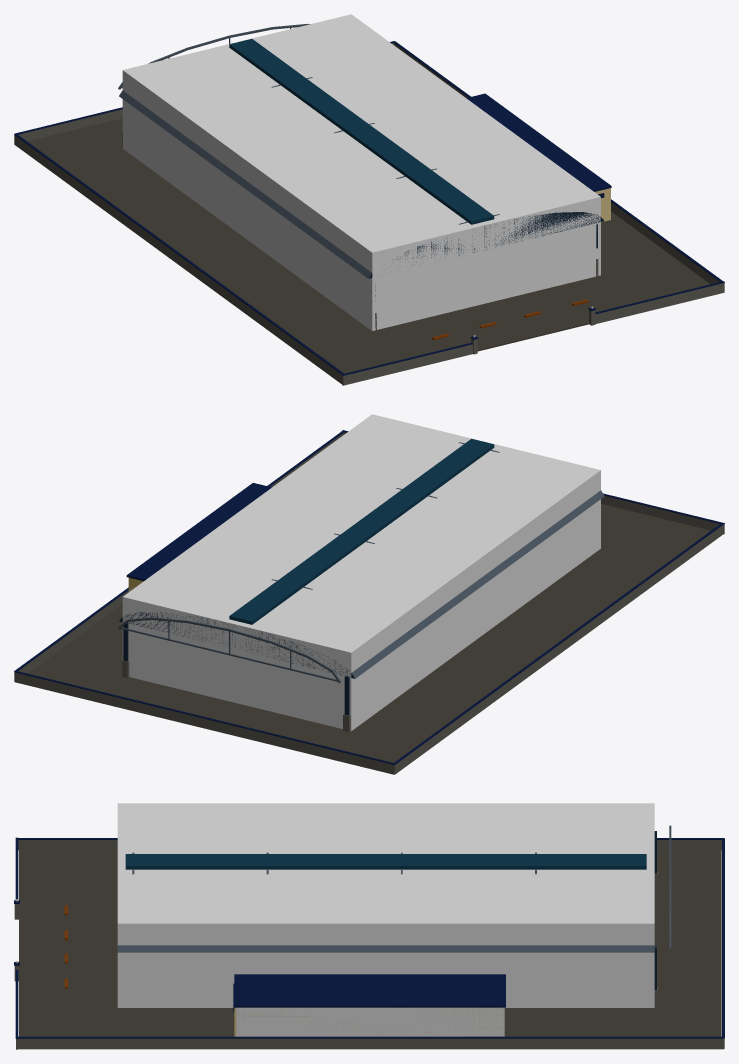
Rendered from B29_bus_depot.glb.
The picture shows the model from 3 angles, top to bottom: view 1: azimuth 30°, elevation 25°; view 2: azimuth 150°, elevation 25°; view 3: azimuth 270°, elevation 25°; orthographic projection. The views are drawn at different scales.
Visible parts, largest first — view 1: COL_Main, LOD0; view 2: COL_Main, LOD0; view 3: COL_Main, LOD0, COL_Office.
Part boxes in pixels (x1,y1,x2,y2): COL_Main: [122, 14, 600, 330]; LOD0: [14, 23, 724, 385]; COL_Main: [122, 414, 600, 731]; LOD0: [14, 430, 724, 774]; COL_Main: [117, 803, 654, 1007]; LOD0: [14, 825, 724, 1049]; COL_Office: [236, 1007, 504, 1036].
Size of what is drawn, in the model's own units: 60.08 by 12.5 by 90.06.
